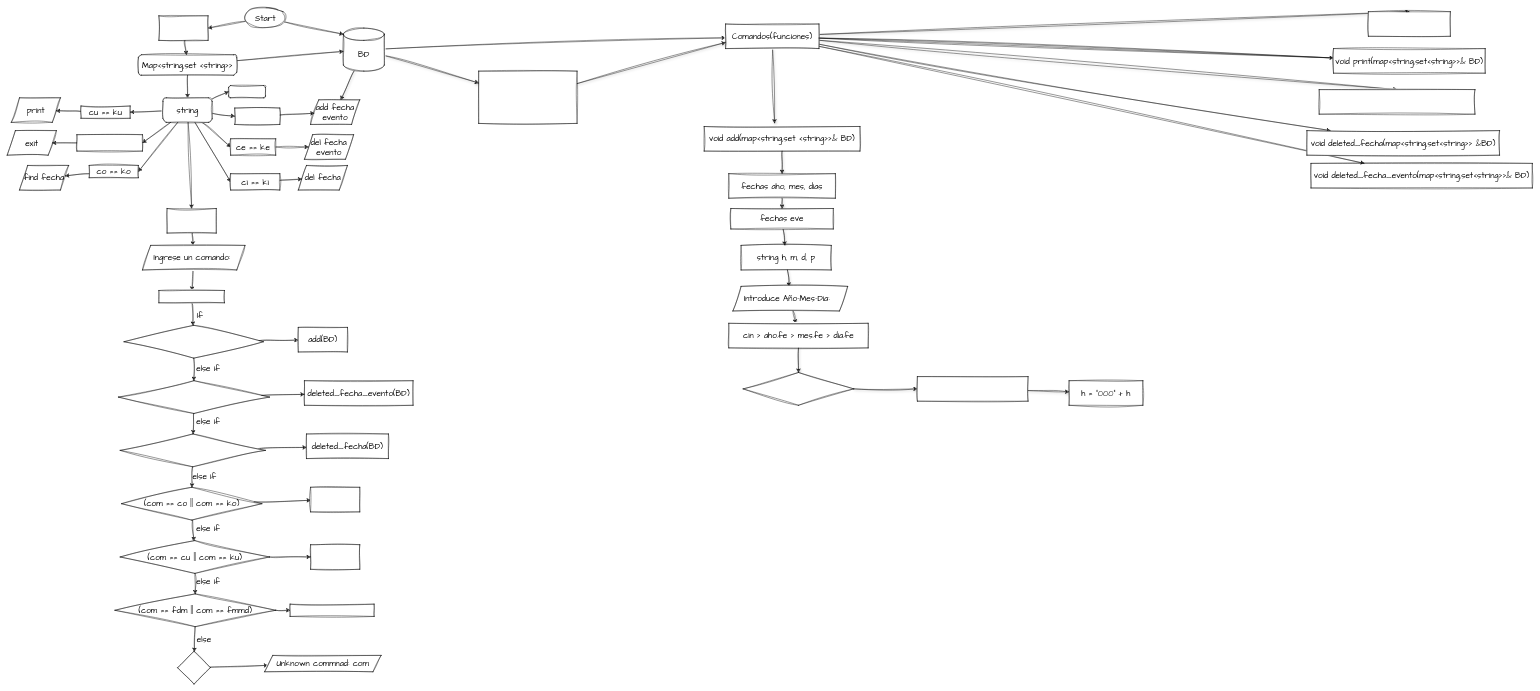
This 1540x691 diagram has some shape labels left out. The centre of each missing label's shape, as x and y in pixels:
(aho.fe < 10): the point at 798,388
(com == ca || com == ka): the point at 193,341
(com == ce || com == ke): the point at 194,396
(com == ci || com == ki): the point at 192,450
ca == ka: the point at 257,116
com: the point at 246,91
fdm == fmmd: the point at 109,142
find(BD): the point at 335,499
getline(cin,com): the point at 191,296
h = to_string(aho.fe): the point at 972,388
Main: the point at 183,27
print(BD): the point at 335,556
salir(com): the point at 332,610
struct fechas { int fe string nom }: the point at 527,97
void find(map<string,set<string>>& BD): the point at 1397,101
void salir(string com): the point at 1409,23
while(true): the point at 191,220
